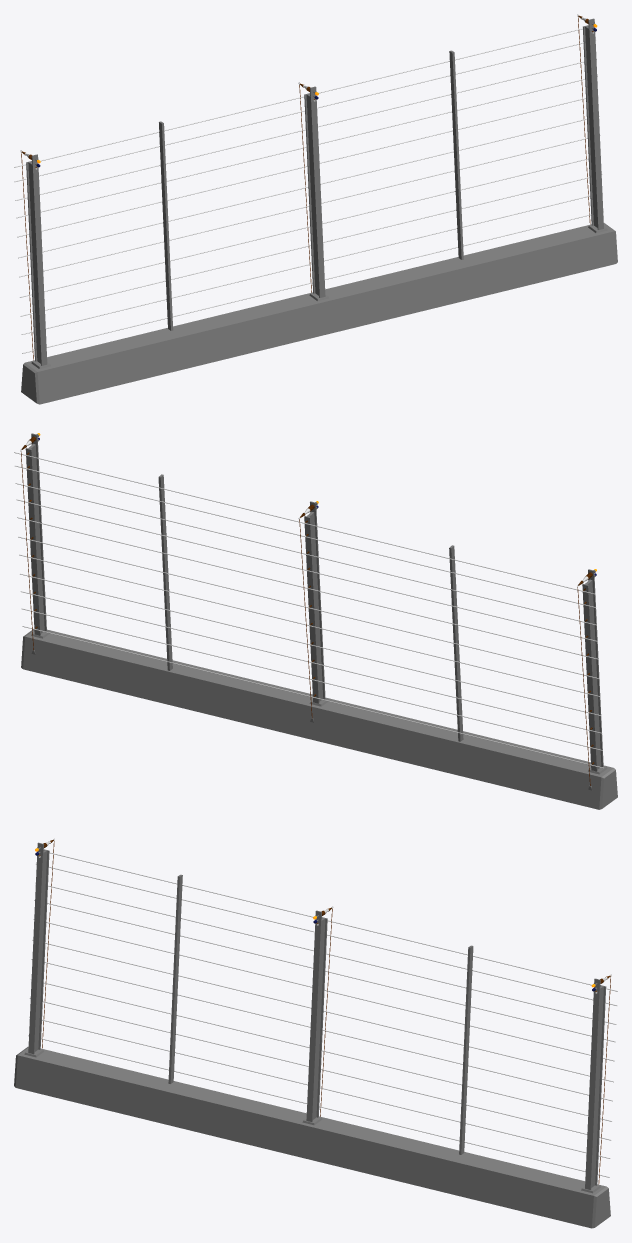
The model's file is Electric fence upload.fbx.
The picture shows the model from 3 angles, top to bottom: view 1: azimuth 30°, elevation 25°; view 2: azimuth 150°, elevation 25°; view 3: azimuth 330°, elevation 25°; orthographic projection.
Visible parts, largest first — view 1: Cube, Cube.001, Cube.004, Cube.007, Cube.010, Cube.022, Cylinder.903, Cylinder.897, Cylinder.901, Cylinder.899, Cylinder.904, Cylinder.902 (+5 smaller); view 2: Cube, Cube.004, Cube.001, Cube.007, Cube.010, Cube.022, Cylinder.899, Cylinder.904, Cylinder.903, Cylinder.905, Cylinder.907, Cylinder.897 (+5 smaller); view 3: Cube, Cube.001, Cube.007, Cube.004, Cube.022, Cube.010, Cylinder.900, Cylinder.903, Cylinder.901, Cylinder.897, Cylinder.898, Cylinder.899 (+5 smaller).
Boxes of the visible parts, box(x1,y1,x2,y2) form: Cube: box(21, 223, 617, 404); Cube.001: box(304, 86, 325, 297); Cube.004: box(26, 154, 47, 365); Cube.007: box(583, 18, 603, 229); Cube.010: box(159, 121, 173, 330); Cube.022: box(449, 50, 463, 259); Cylinder.903: box(17, 95, 598, 237); Cylinder.897: box(22, 211, 603, 353); Cylinder.901: box(19, 135, 600, 277); Cylinder.899: box(20, 174, 602, 316); Cylinder.904: box(16, 76, 597, 218); Cylinder.902: box(18, 115, 599, 258); Cube: box(21, 629, 617, 809); Cube.004: box(582, 569, 603, 771); Cube.001: box(304, 501, 325, 703); Cube.007: box(25, 433, 46, 635); Cube.010: box(449, 545, 463, 741); Cube.022: box(158, 474, 172, 670); Cylinder.899: box(20, 591, 602, 733); Cylinder.904: box(16, 499, 597, 641); Cylinder.903: box(17, 517, 598, 659); Cylinder.905: box(15, 483, 596, 625); Cylinder.907: box(14, 452, 595, 594); Cylinder.897: box(22, 626, 603, 768); Cube: box(14, 1046, 610, 1228); Cube.001: box(306, 910, 327, 1121); Cube.007: box(585, 978, 606, 1189); Cube.004: box(28, 842, 49, 1054); Cube.022: box(459, 945, 473, 1154); Cube.010: box(168, 874, 182, 1083); Cylinder.900: box(30, 979, 611, 1121); Cylinder.903: box(33, 919, 614, 1061); Cylinder.901: box(31, 959, 612, 1101); Cylinder.897: box(28, 1035, 609, 1177); Cylinder.898: box(29, 1016, 610, 1158); Cylinder.899: box(29, 998, 611, 1140).
Size of the model in its own units: 1960 by 760 by 171.
